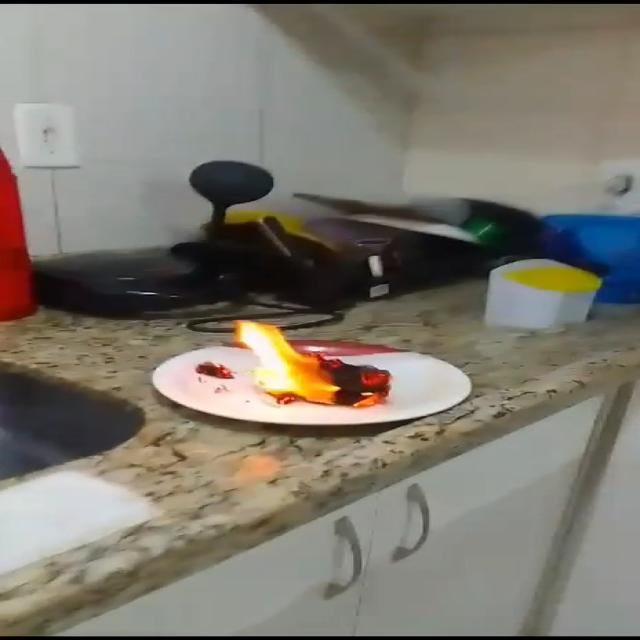fogo-ypXI: (235, 320, 392, 408)
